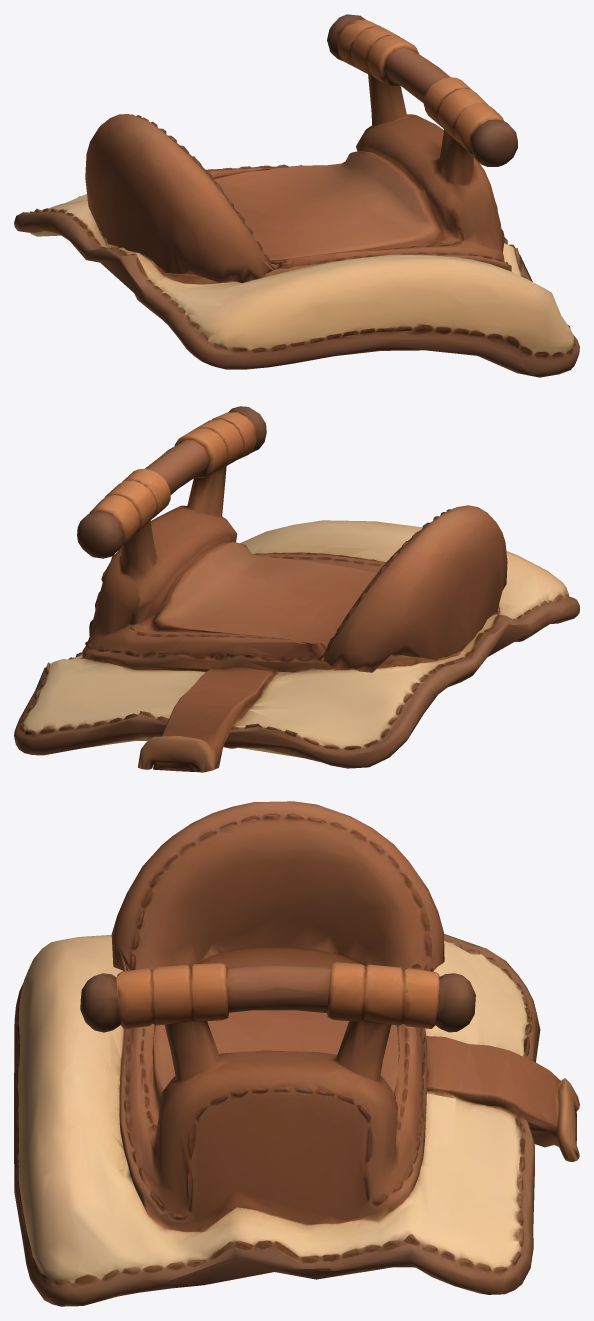
Rendered from mosi-saddle.glb.
The picture shows the model from 3 angles, top to bottom: view 1: azimuth 30°, elevation 25°; view 2: azimuth 150°, elevation 25°; view 3: azimuth 270°, elevation 25°; orthographic projection. The views are drawn at different scales.
Parts seen in each view (by area): view 1: Hnakkur; view 2: Hnakkur; view 3: Hnakkur.
Boxes of the visible parts, left/top/right/bottom form: Hnakkur: left=14, top=14, right=579, bottom=377; Hnakkur: left=14, top=406, right=579, bottom=772; Hnakkur: left=14, top=801, right=579, bottom=1306.
Bounding box in the file's own units: 0.3491 × 0.2102 × 0.3522.
1 material, 1 textured.
